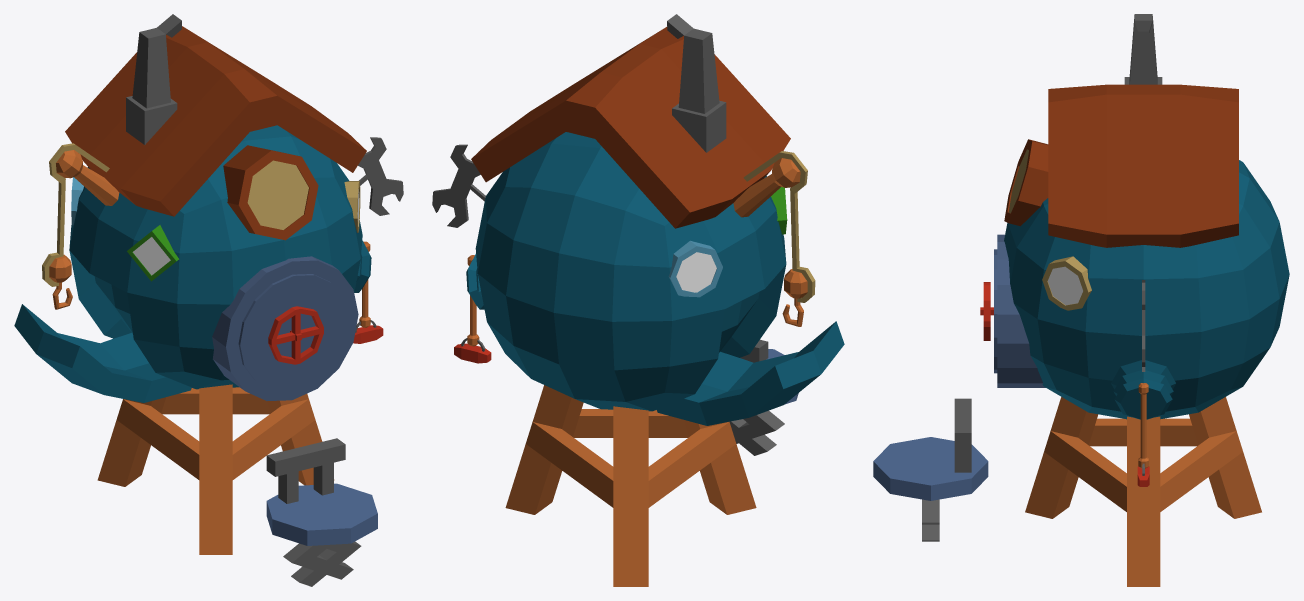
File: pin_house.glb
The picture shows the model from 3 angles, left to right: view 1: azimuth 30°, elevation 25°; view 2: azimuth 150°, elevation 25°; view 3: azimuth 270°, elevation 25°; orthographic projection. The views are drawn at different scales.
Parts seen in each view (by area): view 1: Cube, Cube.003, Cube.002, Cylinder, Cube.001, Cylinder.003, Cylinder.002, Cube.006, Cube.005, Cylinder.009, Cube.004, Cylinder.001 (+5 smaller); view 2: Cube, Cube.003, Cube.002, Cube.001, Cube.006, Cylinder.009, Cylinder.004, Cube.007, Cube.008, Cube.004, Cylinder.008, Cylinder.007; view 3: Cube, Cube.003, Cube.002, Cylinder.002, Cylinder, Cylinder.007, Cylinder.003, Cylinder.005, Cube.006, Cube.005, Cylinder.008, Cube.004.
Part boxes in pixels (x1,y1,x2,y2): Cube: [69, 125, 362, 389]; Cube.003: [65, 26, 366, 216]; Cube.002: [97, 384, 334, 554]; Cylinder: [212, 256, 358, 400]; Cube.001: [14, 304, 191, 402]; Cylinder.003: [223, 145, 318, 240]; Cylinder.002: [266, 483, 377, 545]; Cube.006: [126, 14, 181, 144]; Cube.005: [266, 438, 345, 503]; Cylinder.009: [49, 150, 119, 309]; Cube.004: [283, 541, 361, 586]; Cylinder.001: [268, 306, 323, 364]; Cube: [475, 132, 786, 411]; Cube.003: [471, 27, 790, 228]; Cube.002: [505, 385, 756, 586]; Cube.001: [657, 321, 844, 425]; Cube.006: [667, 14, 726, 152]; Cylinder.009: [733, 158, 807, 326]; Cylinder.004: [668, 240, 722, 297]; Cube.007: [432, 144, 485, 227]; Cube.008: [743, 151, 815, 302]; Cube.004: [729, 410, 784, 455]; Cylinder.008: [454, 255, 491, 363]; Cylinder.007: [466, 254, 484, 309]; Cube: [1004, 160, 1289, 419]; Cube.003: [1048, 84, 1238, 247]; Cube.002: [1025, 397, 1261, 586]; Cylinder.002: [873, 437, 988, 500]; Cylinder: [994, 234, 1045, 387]; Cylinder.007: [1111, 360, 1175, 419]; Cylinder.003: [1004, 139, 1048, 226]; Cylinder.005: [1042, 256, 1091, 310]; Cube.006: [1124, 14, 1162, 84]; Cube.005: [954, 398, 971, 472]; Cylinder.008: [1137, 383, 1149, 486]; Cube.004: [922, 499, 939, 541].
Size of the model in its own units: 2.83 by 3.65 by 2.78.
